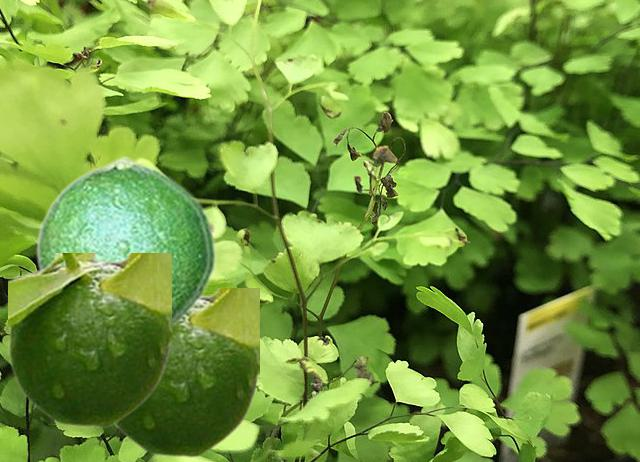dalandan: (35, 155, 216, 330), (34, 158, 210, 326), (8, 253, 170, 426), (113, 288, 258, 456)
